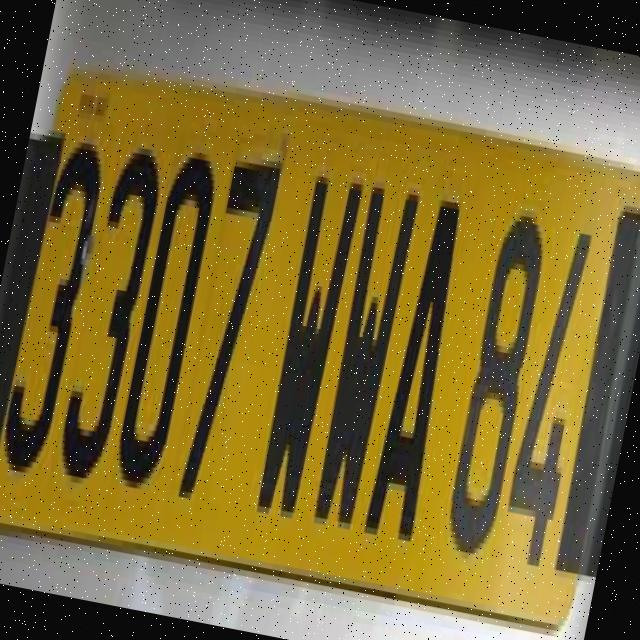Autre: (0, 65, 640, 625)
